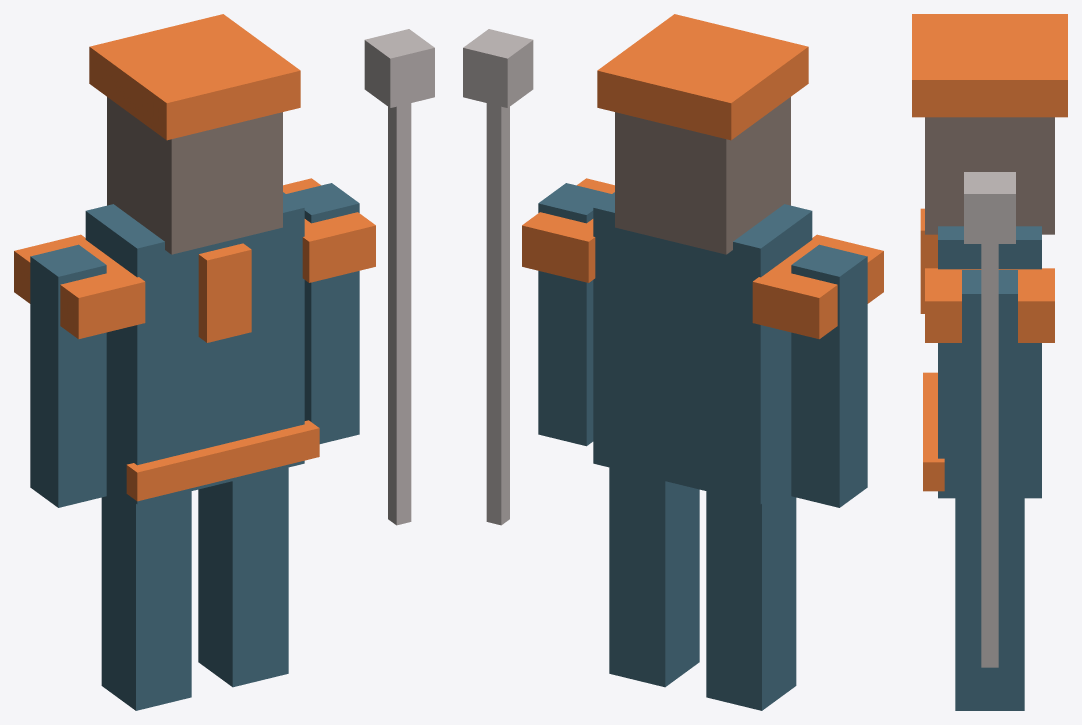
The model's file is 07_dax_frostrelay_medic_from_main.glb.
The picture shows the model from 3 angles, left to right: view 1: azimuth 30°, elevation 25°; view 2: azimuth 150°, elevation 25°; view 3: azimuth 270°, elevation 25°; orthographic projection.
Parts seen in each view (by area): view 1: Dax Frostrelay, Medic from Main; view 2: Dax Frostrelay, Medic from Main; view 3: Dax Frostrelay, Medic from Main.
Boxes of the visible parts, x1,y1,x2,y2 form: Dax Frostrelay, Medic from Main: [14, 14, 434, 710]; Dax Frostrelay, Medic from Main: [463, 14, 883, 710]; Dax Frostrelay, Medic from Main: [912, 14, 1067, 710].
Bounding box in the file's own units: 0.9876 × 1.55 × 0.3503.
